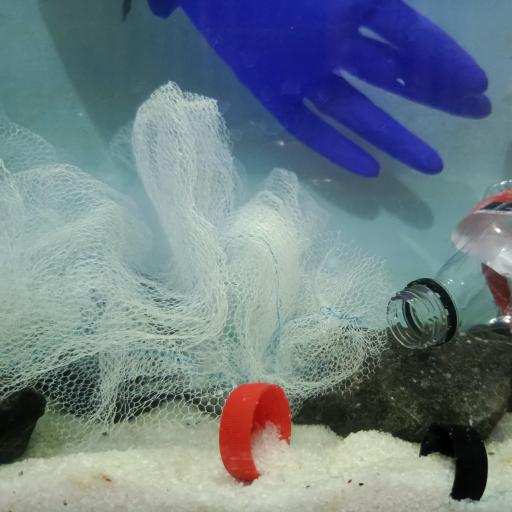bottle_cap: (218, 382, 292, 482), (422, 424, 489, 503)
glove: (147, 0, 491, 178)
net: (1, 80, 393, 440)
plastic_bottle: (386, 180, 512, 350)
